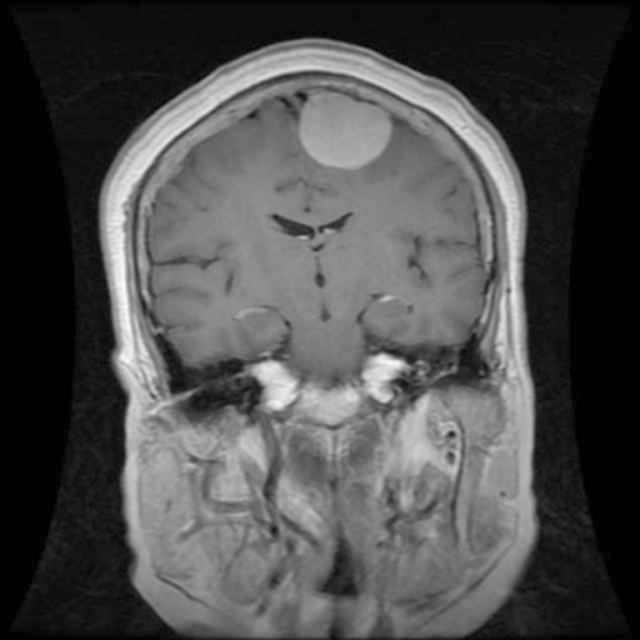meningioma tumor: (281, 81, 419, 168)
